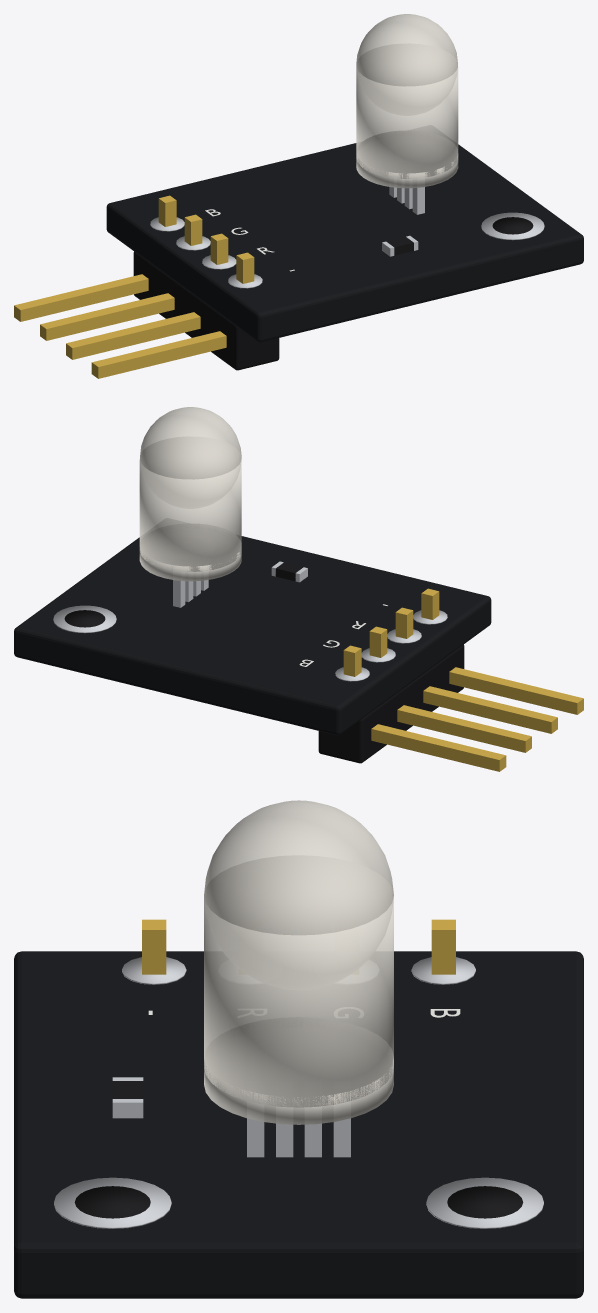
Rendered from rgb-led.glb.
3 renders of one model, top to bottom at view 1: azimuth 30°, elevation 25°; view 2: azimuth 150°, elevation 25°; view 3: azimuth 270°, elevation 25°, orthographic. The views are drawn at different scales.
Visible parts, largest first — view 1: pcb.032, led_body.008, led_dome.009, led_rim.008, header.032, pin_h.111, pin_h.108, pin_h.109, pin_h.110, hole_ring.056, hole.056, pin_v.111 (+3 smaller); view 2: pcb.032, led_body.008, led_dome.009, led_rim.008, header.032, pin_h.108, pin_h.111, pin_h.109, pin_h.110, hole_ring.055, hole.055, pin_v.108 (+3 smaller); view 3: pcb.032, led_body.008, led_dome.009, led_rim.008, hole_ring.055, hole_ring.056, hole.055, hole.056, pin_v.108, pin_v.111, pad.108, pad.111 (+3 smaller).
Part boxes in pixels (x1=…): pcb.032: x1=106, y1=143, x2=583, y2=342; led_body.008: x1=356, y1=43, x2=458, y2=178; led_dome.009: x1=356, y1=14, x2=457, y2=115; led_rim.008: x1=356, y1=130, x2=458, y2=188; header.032: x1=133, y1=251, x2=279, y2=370; pin_h.111: x1=91, y1=331, x2=226, y2=378; pin_h.108: x1=14, y1=274, x2=148, y2=321; pin_h.109: x1=40, y1=293, x2=174, y2=340; pin_h.110: x1=66, y1=312, x2=200, y2=359; hole_ring.056: x1=481, y1=212, x2=544, y2=240; hole.056: x1=492, y1=217, x2=533, y2=234; pin_v.111: x1=236, y1=252, x2=254, y2=283; pcb.032: x1=14, y1=536, x2=491, y2=735; led_body.008: x1=139, y1=436, x2=241, y2=571; led_dome.009: x1=140, y1=407, x2=241, y2=508; led_rim.008: x1=139, y1=523, x2=241, y2=581; header.032: x1=318, y1=644, x2=464, y2=763; pin_h.108: x1=371, y1=724, x2=506, y2=771; pin_h.111: x1=449, y1=667, x2=583, y2=714; pin_h.109: x1=397, y1=705, x2=531, y2=752; pin_h.110: x1=423, y1=686, x2=557, y2=733; hole_ring.055: x1=53, y1=605, x2=116, y2=633; hole.055: x1=64, y1=610, x2=105, y2=627; pin_v.108: x1=343, y1=645, x2=361, y2=676; pcb.032: x1=14, y1=951, x2=583, y2=1298; led_body.008: x1=204, y1=855, x2=393, y2=1107; led_dome.009: x1=204, y1=800, x2=393, y2=989; led_rim.008: x1=204, y1=1017, x2=393, y2=1124; hole_ring.055: x1=426, y1=1177, x2=543, y2=1228; hole_ring.056: x1=54, y1=1177, x2=171, y2=1228; hole.055: x1=447, y1=1186, x2=523, y2=1218; hole.056: x1=74, y1=1186, x2=150, y2=1218; pin_v.108: x1=431, y1=919, x2=455, y2=974; pin_v.111: x1=142, y1=919, x2=166, y2=974; pad.108: x1=411, y1=957, x2=475, y2=984; pad.111: x1=122, y1=957, x2=186, y2=984.
Bounding box in the file's own units: 0.0256 × 0.0141 × 0.015.
